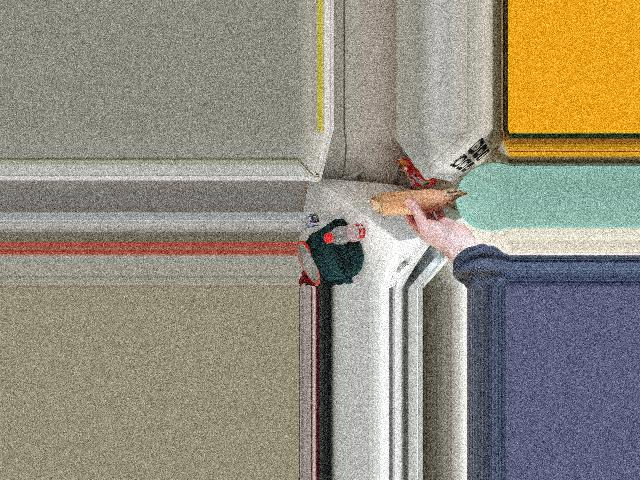sweet_potato: (365, 182, 468, 222)
